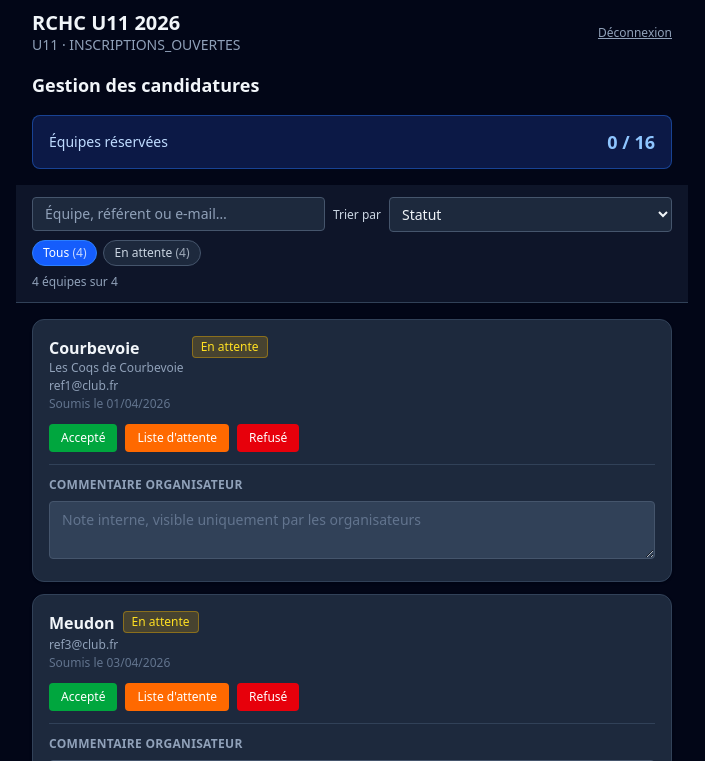
Test case: Liste des candidatures de l'organisateur — recherche par nom complet (CA7) › affiche le message « aucune équipe » pour un texte présent dans aucun champ
This screenshot has width=705, height=761.
Expected: the text "4 équipes sur 4" is shown, [32,274,118,290]
In the search field: (178, 214) [32,197,325,231], type "strasbourg"
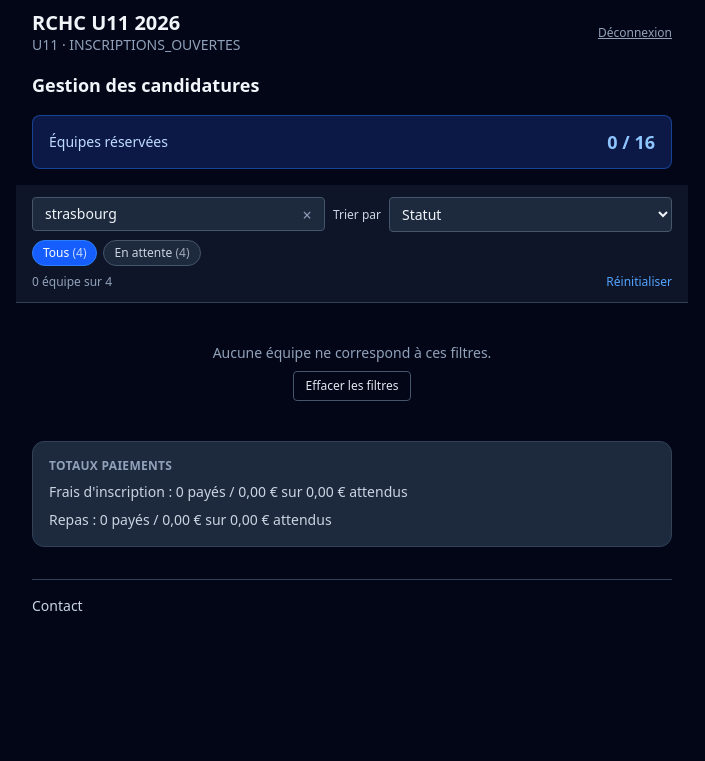
Expected: the text "Aucune équipe ne correspond à ces filtres." is shown, [213,343,491,362]
